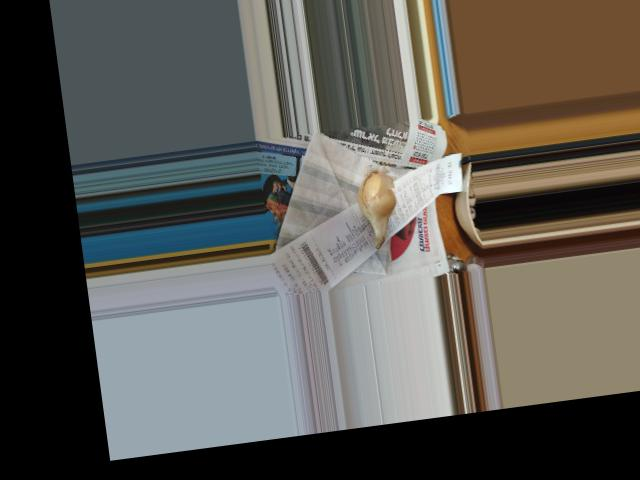onion: (352, 173, 400, 230)
